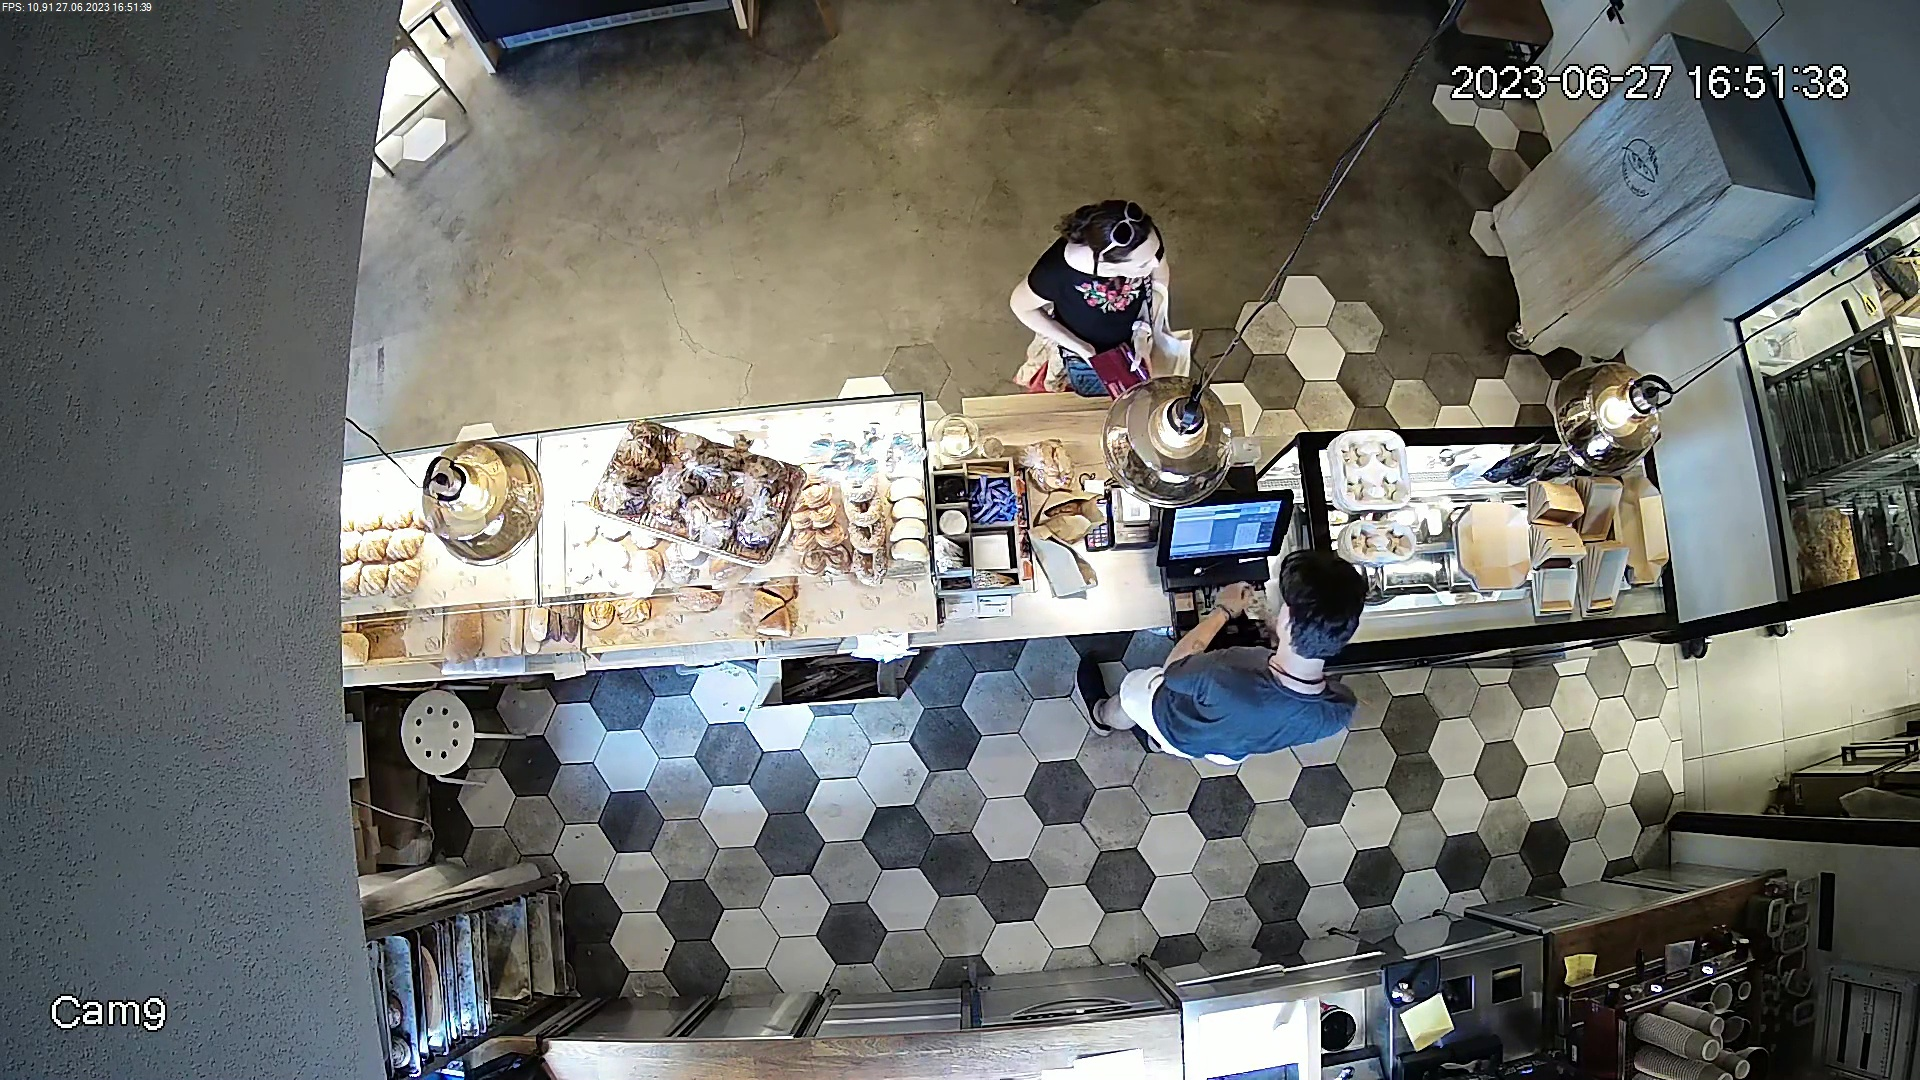pack: (1031, 537, 1096, 601), (1022, 438, 1078, 485)
person: (1079, 567, 1382, 796), (1013, 186, 1203, 387)
